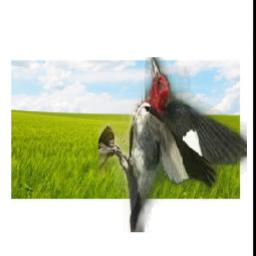Woodpecker: (98, 57, 247, 232)
